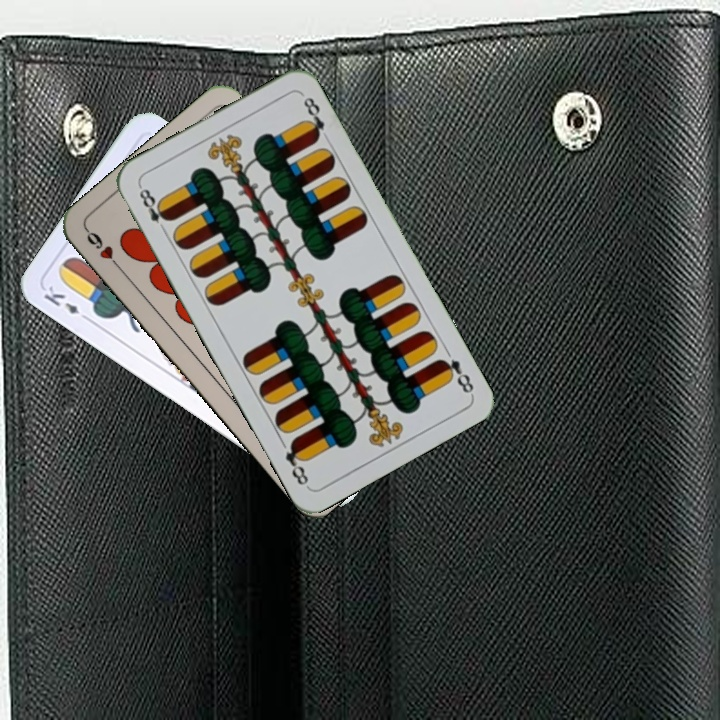E8: (133, 182, 173, 237), (434, 354, 477, 397)
EK: (39, 281, 94, 325)
H9: (82, 225, 126, 274)
